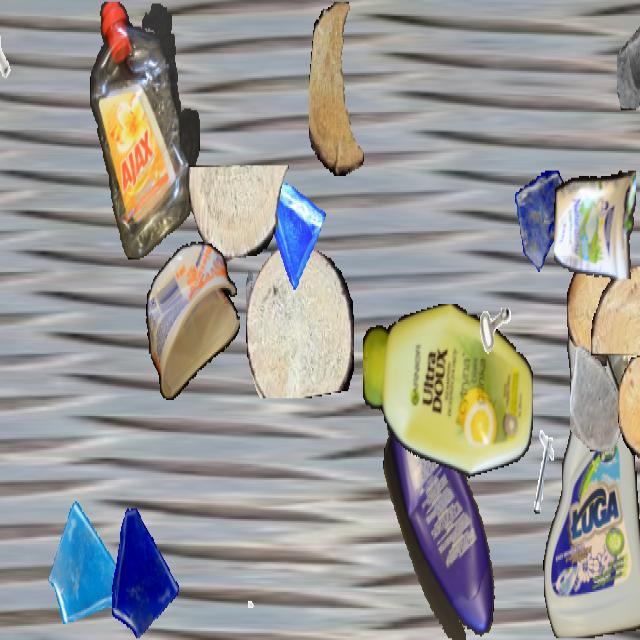glass: (48, 496, 128, 638), (103, 500, 181, 638), (256, 167, 326, 292), (570, 346, 628, 449), (515, 171, 571, 270), (617, 2, 640, 108)
metal: (459, 254, 519, 361), (519, 430, 575, 530), (223, 553, 261, 620), (0, 21, 19, 89)
plastic: (543, 301, 640, 638), (363, 304, 533, 482), (380, 386, 500, 638), (89, 2, 199, 258), (146, 242, 240, 402), (554, 164, 636, 278), (605, 213, 640, 423)
wood: (246, 242, 354, 398), (309, 2, 369, 176), (189, 166, 289, 262), (567, 260, 617, 366), (591, 266, 640, 356), (618, 356, 640, 458)
